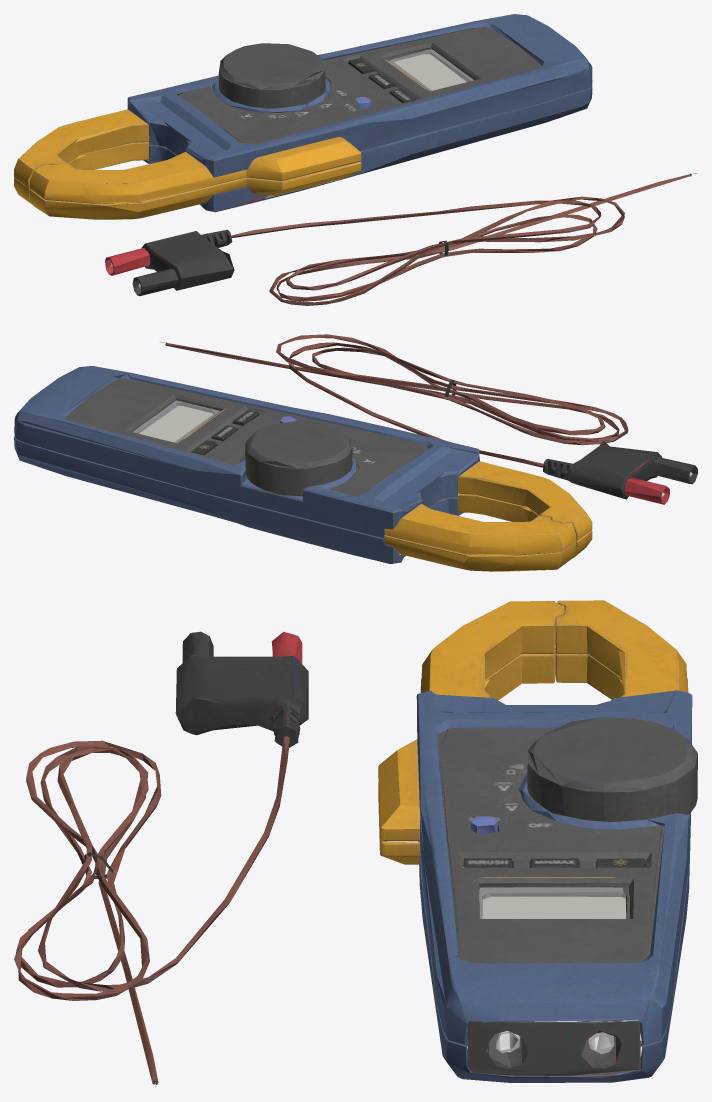
File: item_multimeter_clamp.glb
3 renders of one model, top to bottom at view 1: azimuth 30°, elevation 25°; view 2: azimuth 150°, elevation 25°; view 3: azimuth 270°, elevation 25°, orthographic. The views are drawn at different scales.
Parts seen in each view (by area): view 1: item_multimeter_clamp; view 2: item_multimeter_clamp; view 3: item_multimeter_clamp.
Boxes of the visible parts, bbox=[...] form: item_multimeter_clamp: bbox=[14, 14, 696, 305]; item_multimeter_clamp: bbox=[14, 334, 697, 571]; item_multimeter_clamp: bbox=[14, 600, 697, 1087].
Size of the model in its own units: 0.2417 by 0.0322 by 0.1639.
3 materials, 2 textured.
